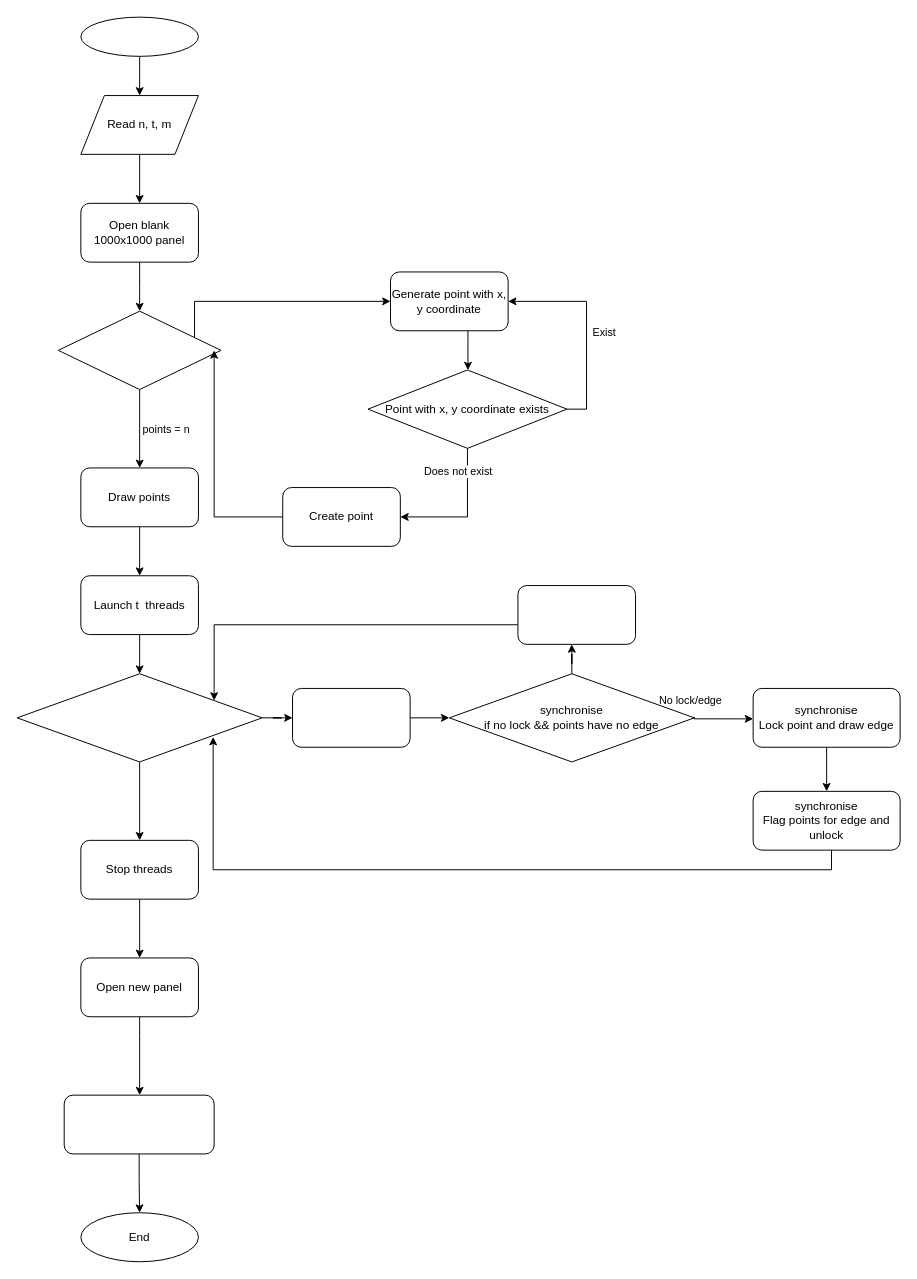
Image size: 917x1279. Some labels were removed from this diagram. Each missing label, with the box of its shape:
Display the number of edges for each thread in new panel: (63, 1094, 214, 1154)
Each thread picks 2 points: (292, 687, 410, 747)
failure++ for thread: (517, 585, 636, 644)
if any thread fails = 20 time = m points < 2: (16, 673, 262, 762)
points <= n: (57, 310, 221, 390)
Start: (80, 16, 198, 56)
